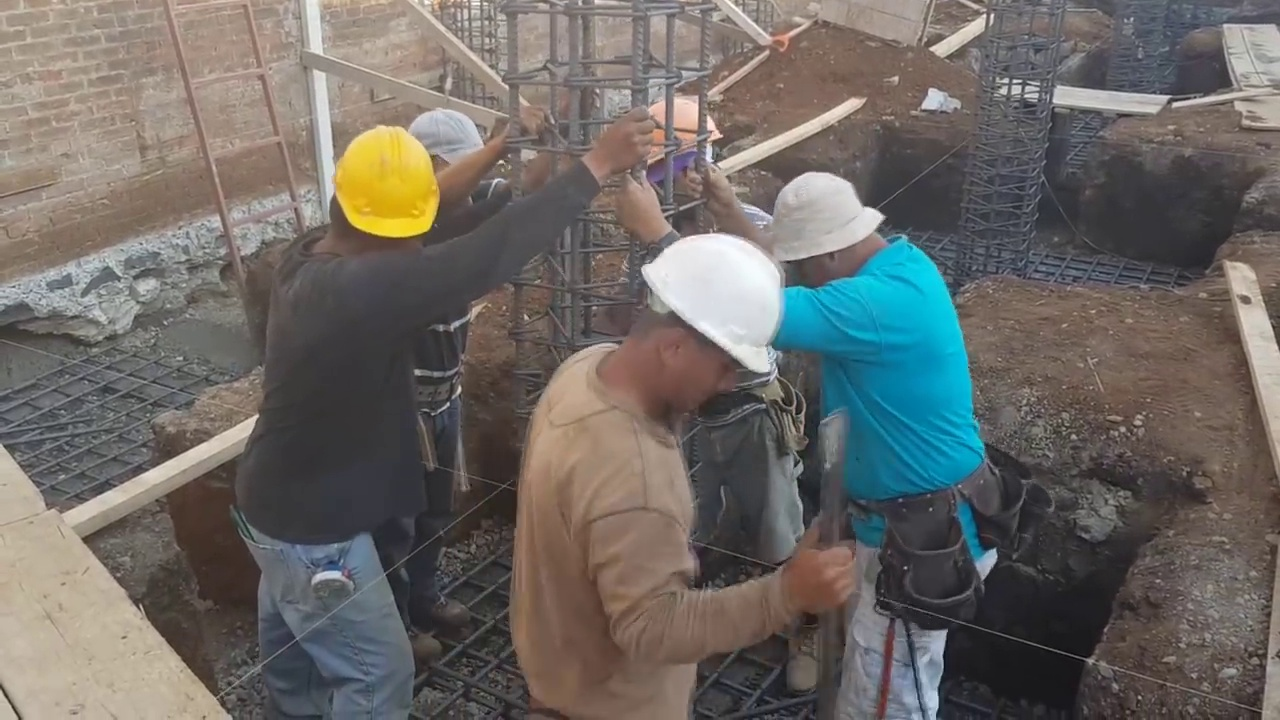helmet: (642, 230, 779, 374), (332, 126, 439, 239), (636, 97, 722, 169)
helmet-off: (768, 172, 894, 300), (408, 102, 490, 219)
helmet-on: (587, 224, 776, 417), (298, 125, 445, 259), (635, 95, 723, 217)
person: (227, 100, 653, 713), (508, 238, 864, 720), (741, 153, 1007, 666), (392, 105, 528, 659)
